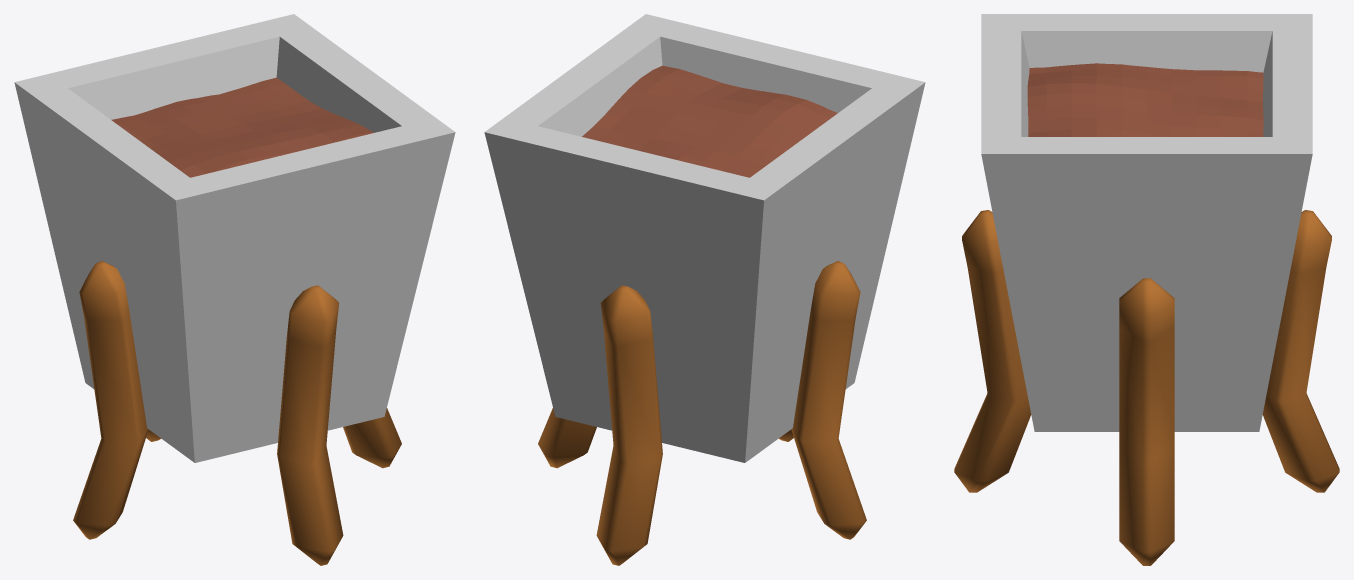
Rendered from Maceta.fbx.
The picture shows the model from 3 angles, left to right: view 1: azimuth 30°, elevation 25°; view 2: azimuth 150°, elevation 25°; view 3: azimuth 270°, elevation 25°; orthographic projection. The views are drawn at different scales.
Parts seen in each view (by area): view 1: Maceta, Plane, Patas.002, Patas.001, Patas; view 2: Maceta, Plane, Patas.003, Patas.001, Patas; view 3: Maceta, Plane, Patas, Patas.002, Patas.003.
Part boxes in pixels (box(x1,y1,x2,y2)): Maceta: box(14, 14, 455, 462); Plane: box(111, 77, 373, 177); Patas.002: box(277, 285, 343, 565); Patas.001: box(73, 261, 148, 539); Patas: box(343, 408, 401, 468); Maceta: box(484, 14, 925, 462); Plane: box(582, 65, 837, 177); Patas.003: box(596, 285, 662, 565); Patas.001: box(791, 261, 866, 539); Patas: box(538, 408, 596, 468); Maceta: box(981, 14, 1312, 431); Plane: box(1027, 63, 1263, 136); Patas: box(1119, 278, 1174, 565); Patas.002: box(954, 210, 1031, 492); Patas.003: box(1262, 210, 1339, 492).
Size of the model in its own units: 96.18 by 112 by 96.18.
